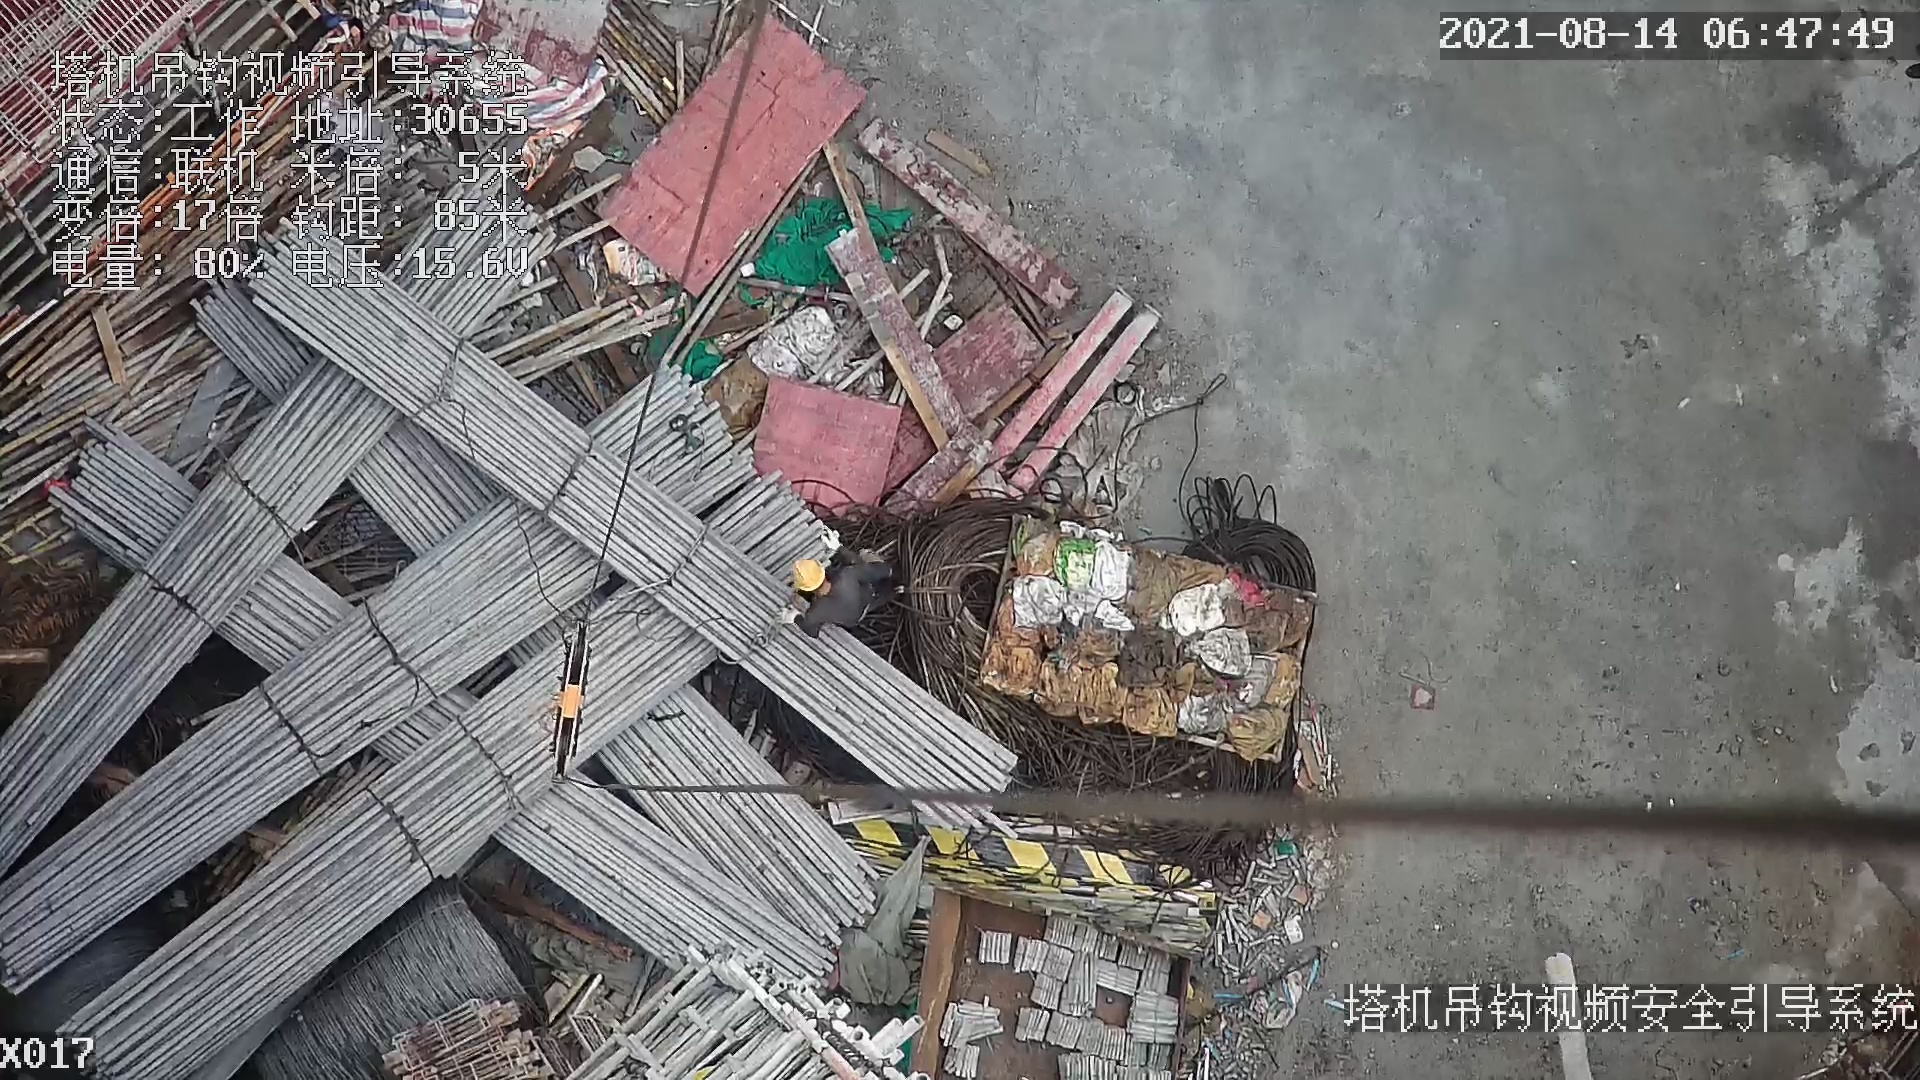board: (584, 9, 867, 297)
helmet: (789, 563, 828, 598)
hook: (544, 619, 597, 791)
person: (774, 531, 895, 650)
